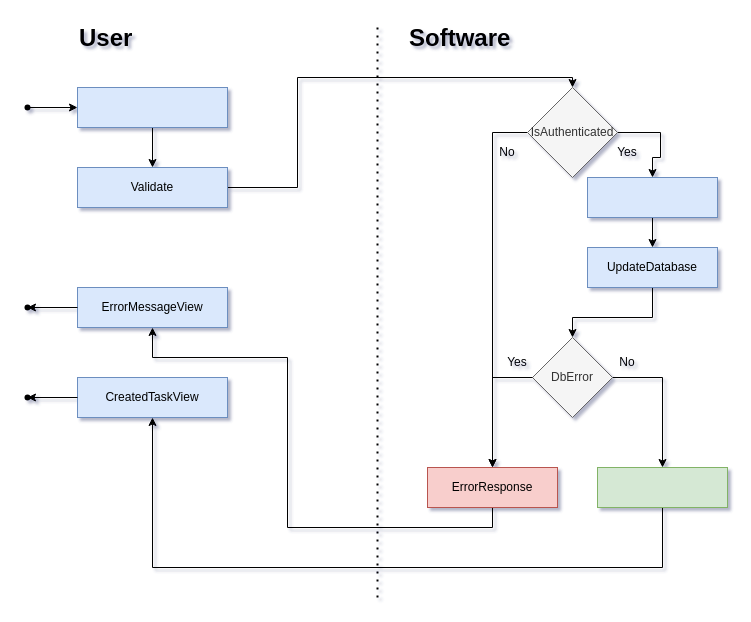
The diagram is 751 pixels wide and 622 high, and some of its shapes have lost their labels. The centre of each missing label's shape, as x and y in pixels:
"FillInForm" belongs at point (152, 107).
"GenerateQuery" belongs at point (652, 197).
"ReturnCreatedTask" belongs at point (662, 487).
